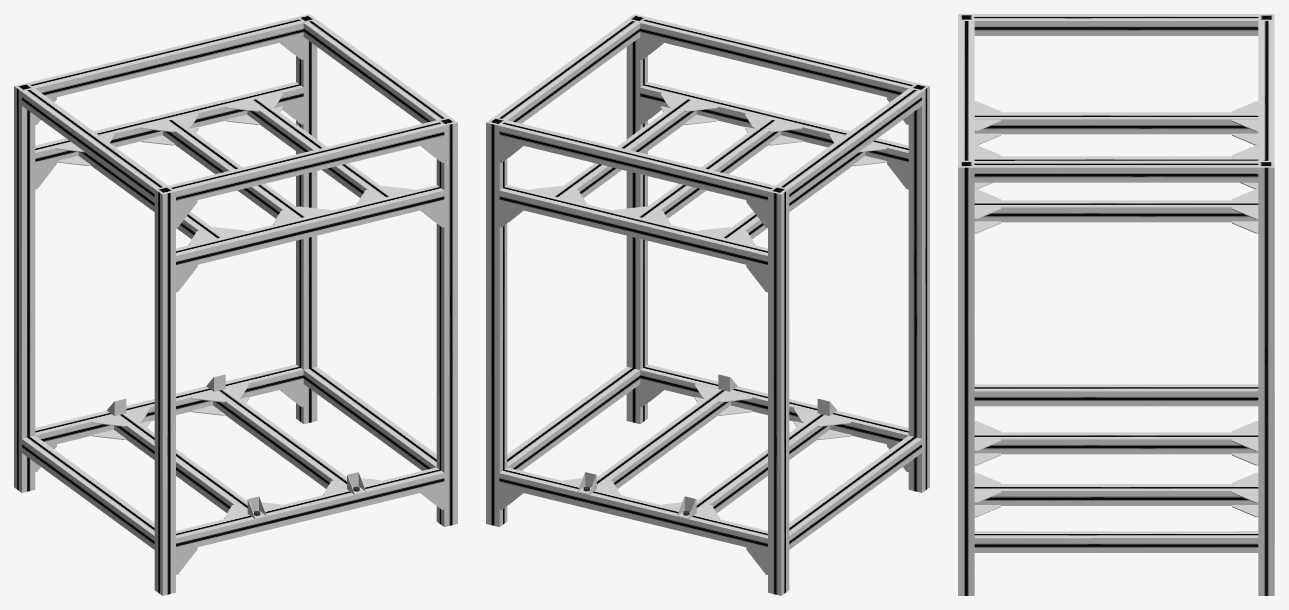
The model's file is huowu.FBX.
3 renders of one model, left to right at view 1: azimuth 30°, elevation 25°; view 2: azimuth 150°, elevation 25°; view 3: azimuth 270°, elevation 25°, orthographic. The views are drawn at different scales.
Visible parts, largest first — view 1: YF_Model_huowu; view 2: YF_Model_huowu; view 3: YF_Model_huowu.
Part boxes in pixels (bbox=[...]): YF_Model_huowu: bbox=[14, 14, 457, 595]; YF_Model_huowu: bbox=[486, 14, 929, 595]; YF_Model_huowu: bbox=[958, 14, 1274, 595].
Size of the model in its own units: 77 by 100 by 67.07.
